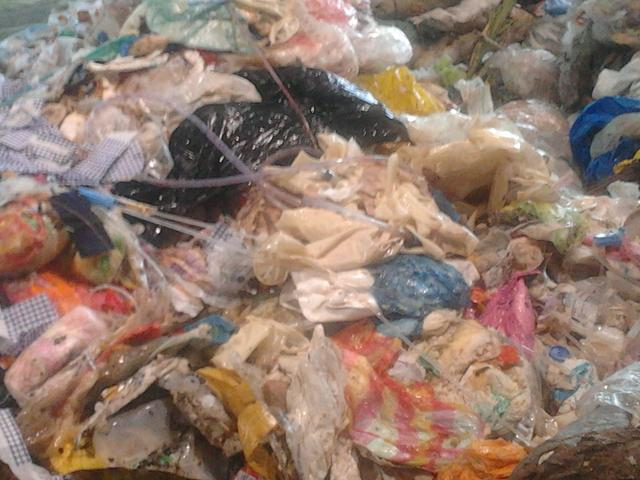garbage: (5, 10, 629, 467)
